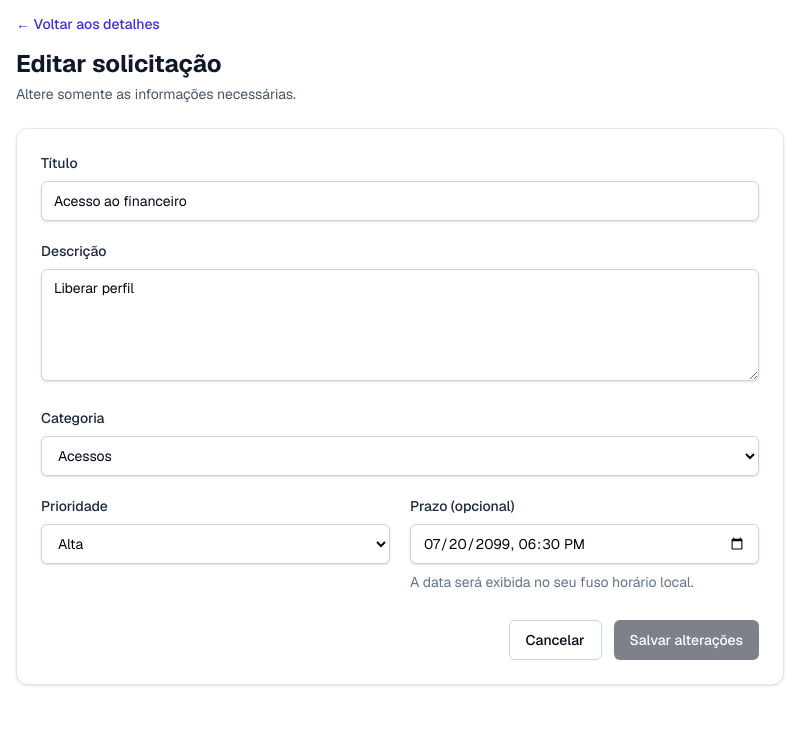
Test: edição de solicitação › exibe erro inesperado
Replace the text in the field labelled "Título" with "Outro título" at (400, 201), box [41,181,759,221]
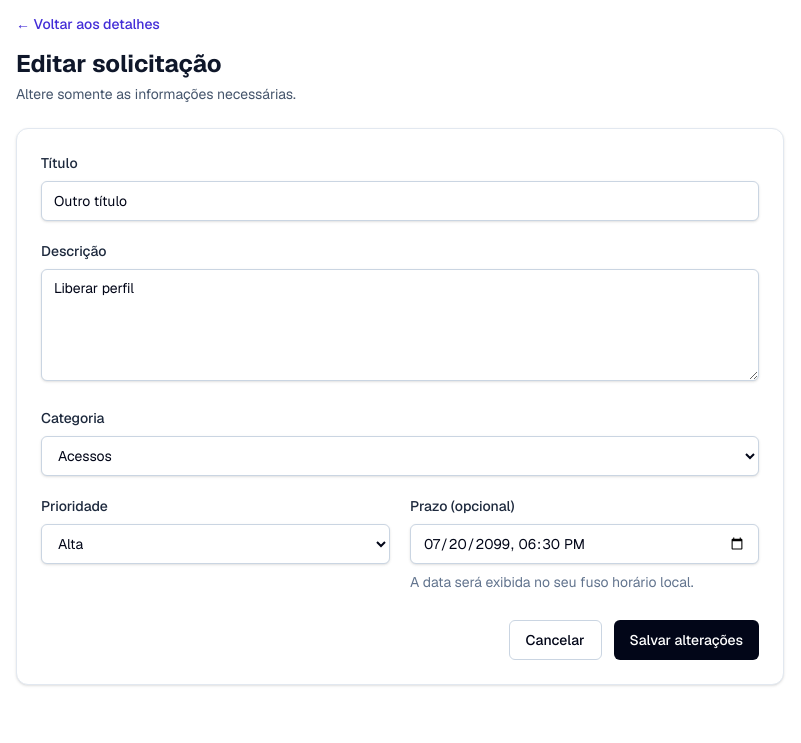
Click the button "Salvar alterações" at (686, 640), box [614,620,759,660]
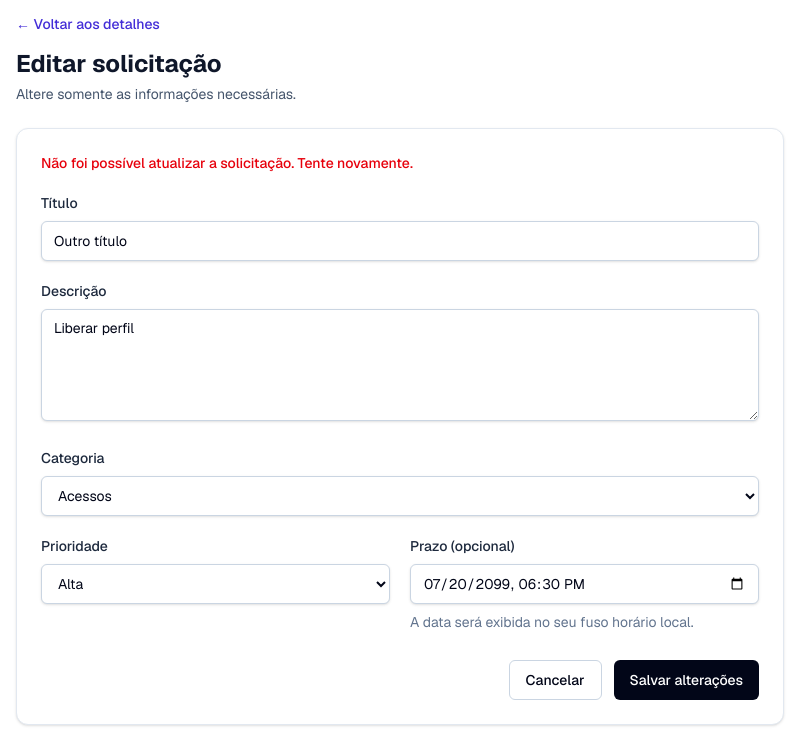
expect the text "Não foi possível atualizar a solicitação. Tente novamente." is shown: met, box [41,154,413,172]
